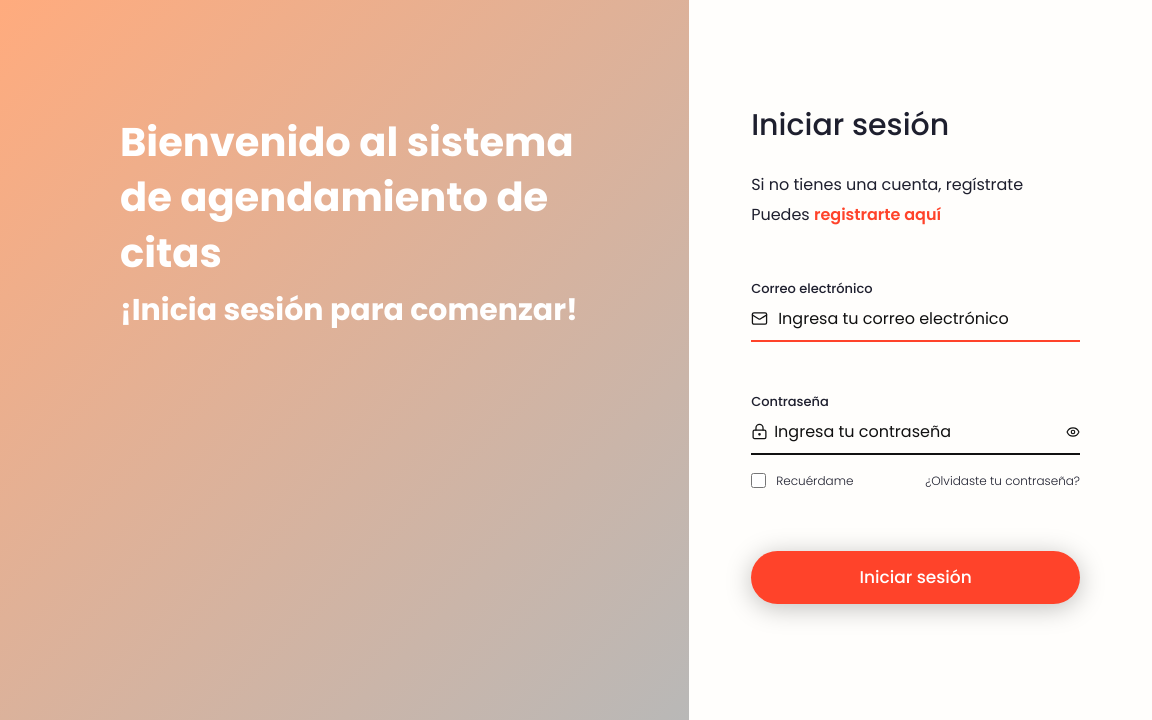
Test: authentication forms › renders labelled login fields and recovery message
This screenshot has width=1152, height=720.
expect the heading "Iniciar sesión" is shown: met, box [751,104,949,146]
expect the text "Si no tienes una cuenta, regístrate" is shown: met, box [751,173,1023,196]
Click the button "¿Olvidaste tu contraseña?": (1002, 481) [925,472,1080,490]
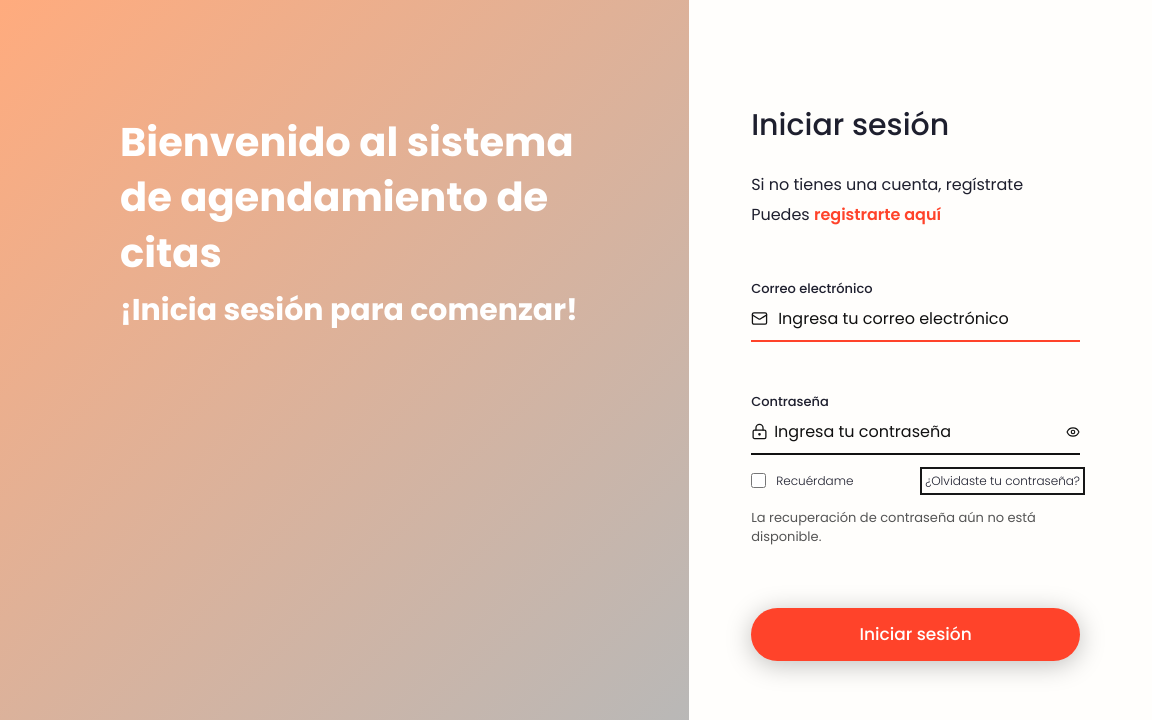
expect the message reads "La recuperación de contraseña aún no está disponible.": met, box [751,508,1036,546]
